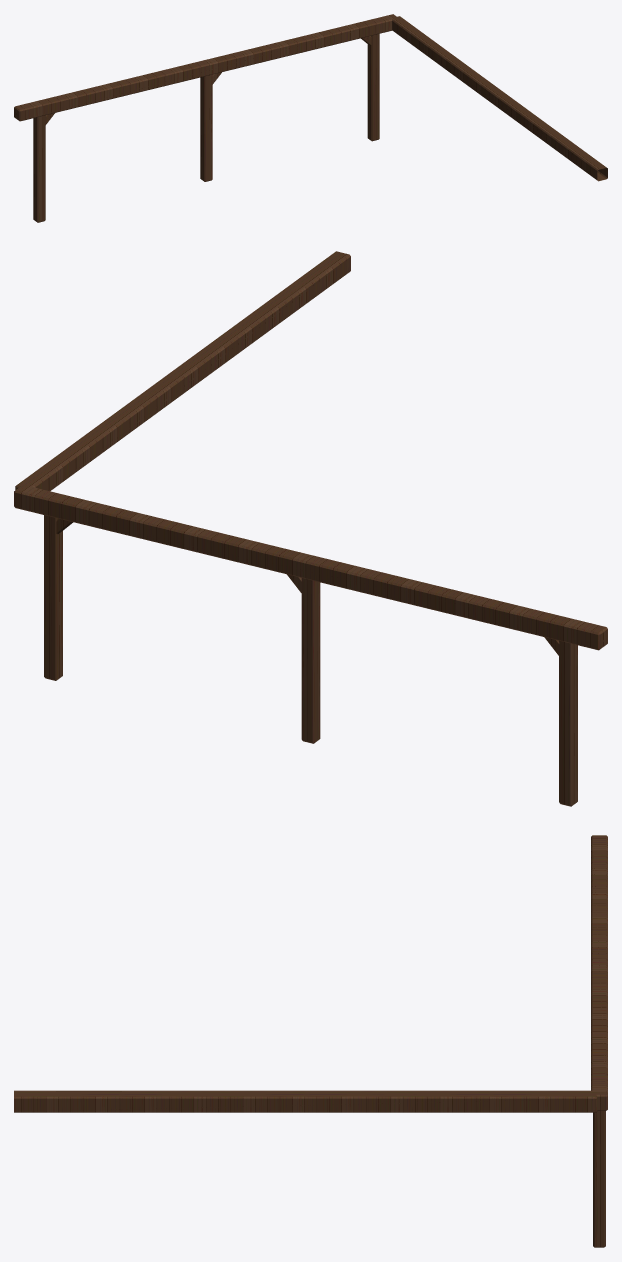
Rendered from SM_HH_V2_InteriorBeams.fbx.
The picture shows the model from 3 angles, top to bottom: view 1: azimuth 30°, elevation 25°; view 2: azimuth 150°, elevation 25°; view 3: azimuth 270°, elevation 25°; orthographic projection. The views are drawn at different scales.
Parts seen in each view (by area): view 1: HH_V2_InteriorBeams; view 2: HH_V2_InteriorBeams; view 3: HH_V2_InteriorBeams.
Part boxes in pixels (x1,y1,x2,y2): HH_V2_InteriorBeams: (14, 14, 607, 222); HH_V2_InteriorBeams: (14, 251, 607, 806); HH_V2_InteriorBeams: (14, 835, 607, 1247).
Bounding box in the file's own units: 8.33 × 8.71 × 2.57.
